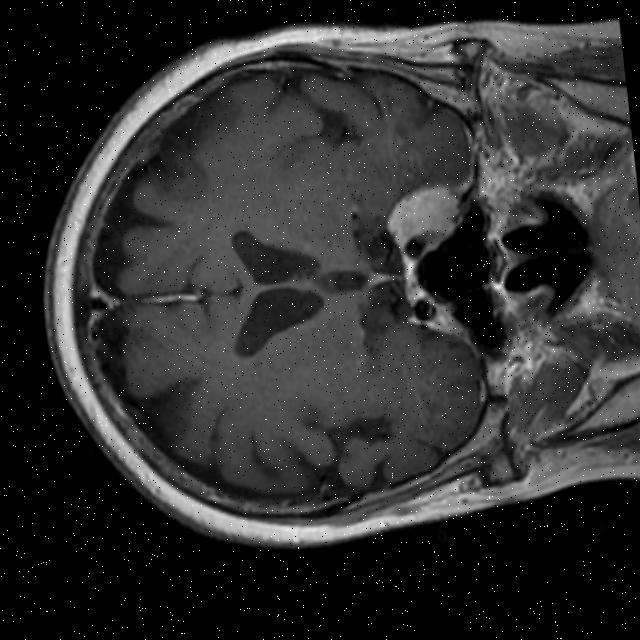Meningioma: (380, 178, 465, 247)
